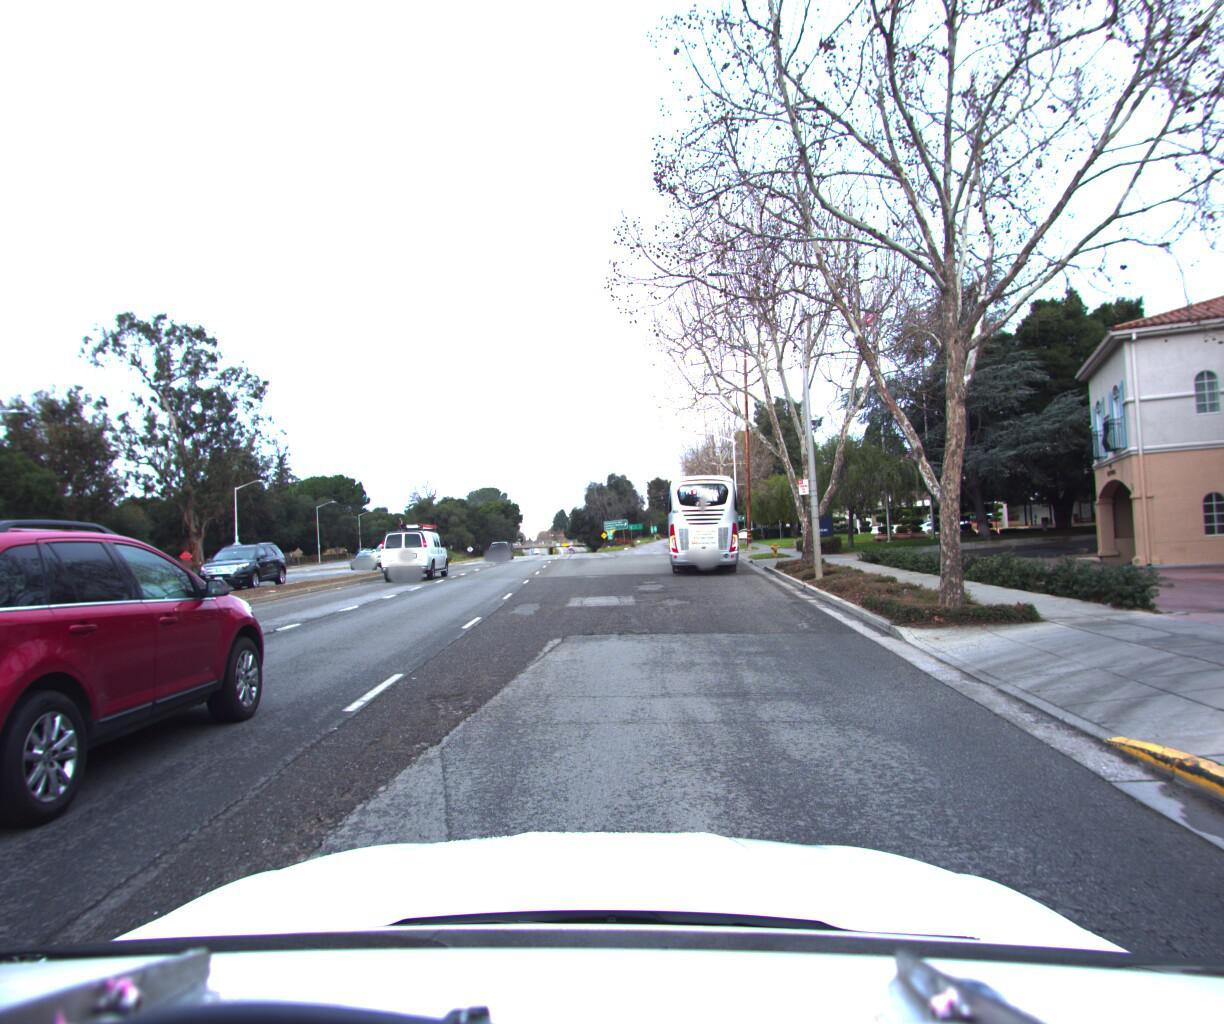bus: (656, 459, 744, 573)
car: (0, 489, 296, 896), (185, 535, 292, 593), (370, 514, 452, 580), (368, 534, 413, 567), (907, 510, 973, 533), (344, 546, 384, 566), (485, 535, 512, 556)
